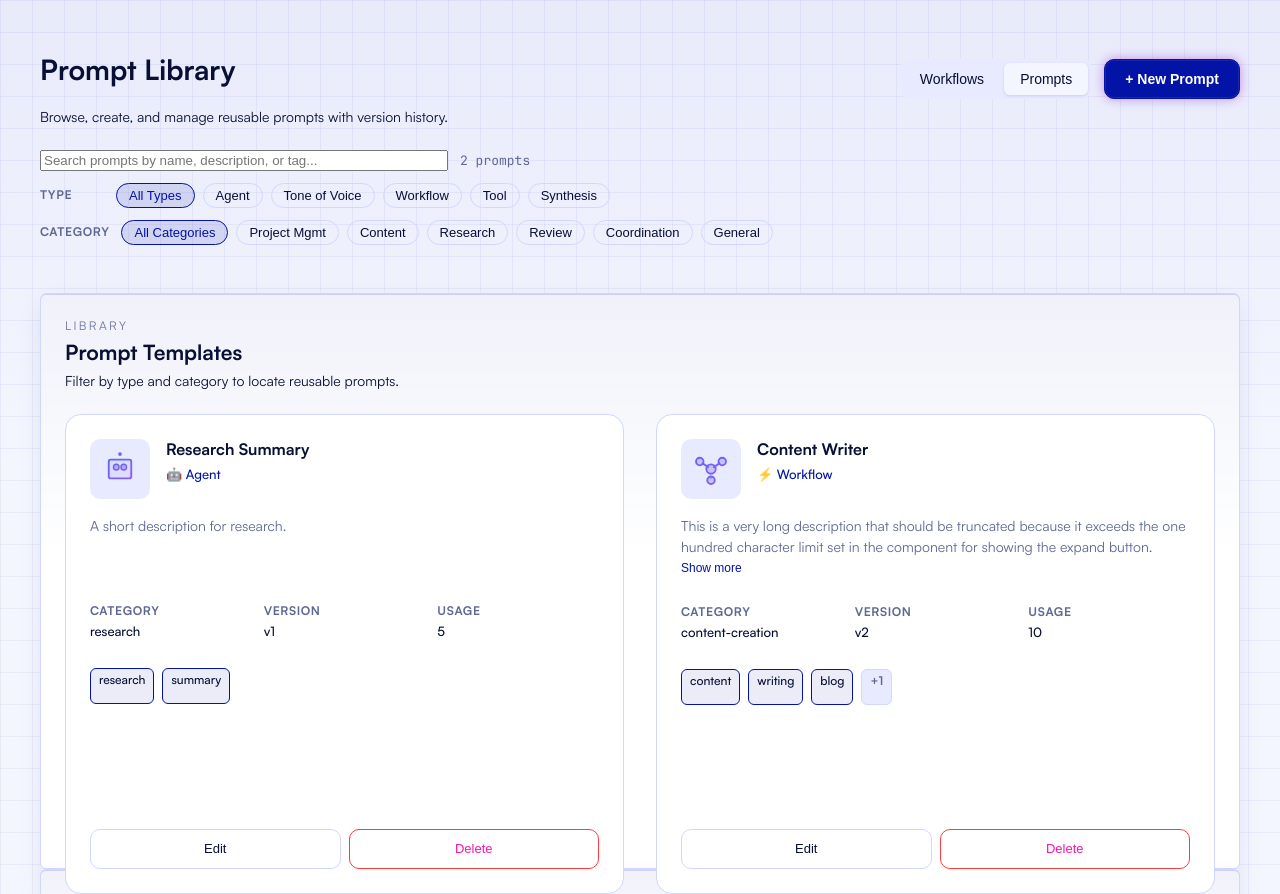
Test case: PromptLibraryPage › expands description when Show more is clicked
Click the button "Show more".
click(711, 568)  # box [681,561,742,575]
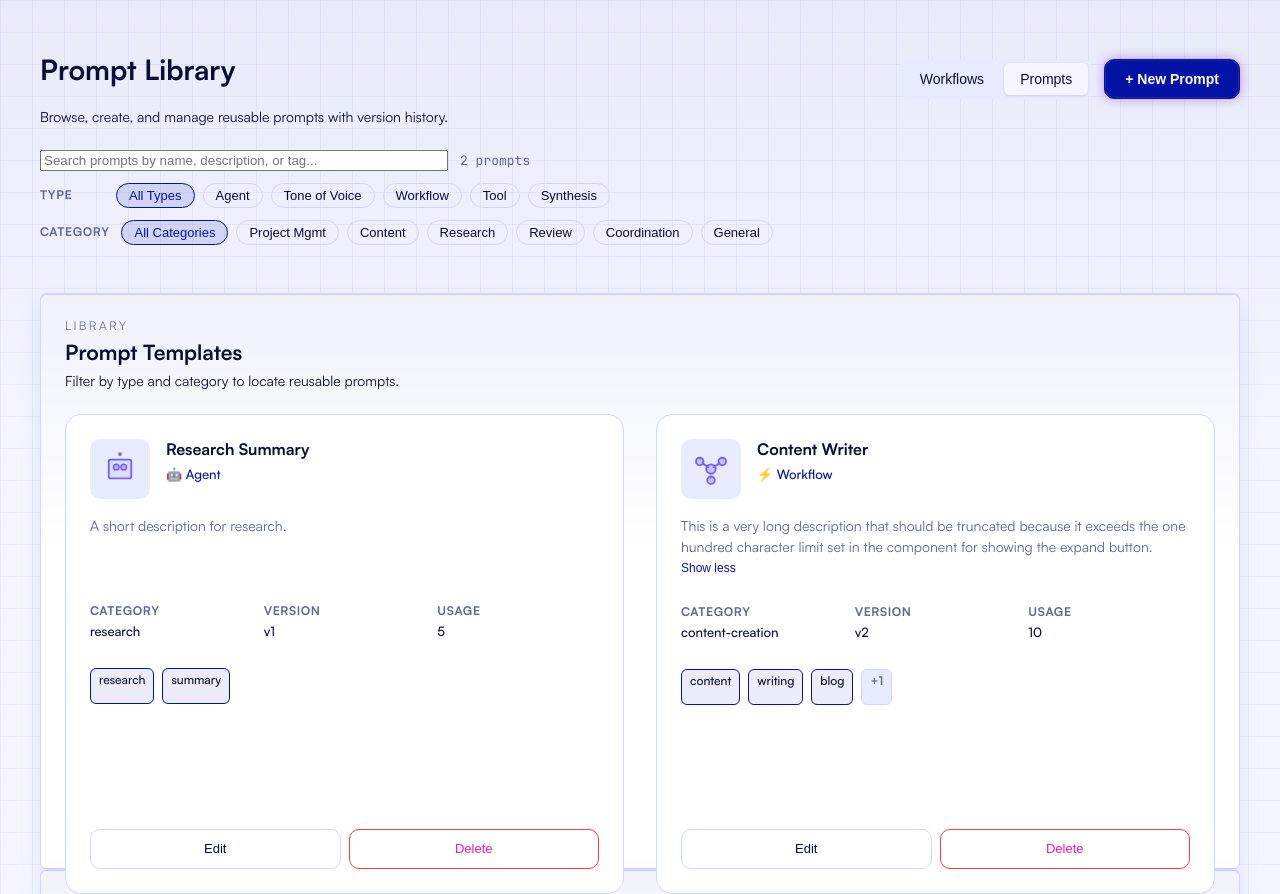
Now the button "Show less" is shown, box [681,561,736,575]
